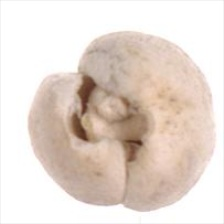L3: (69, 70, 153, 166)
L4: (27, 31, 217, 211)
